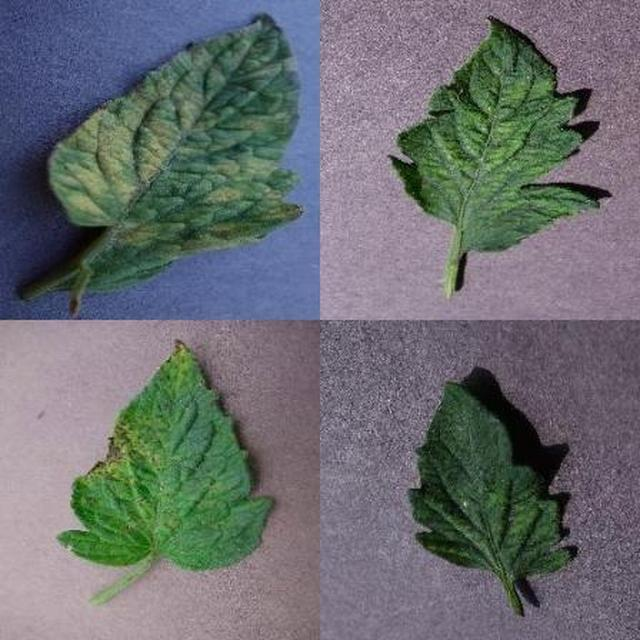Leaf Mold: (238, 193, 640, 640)
